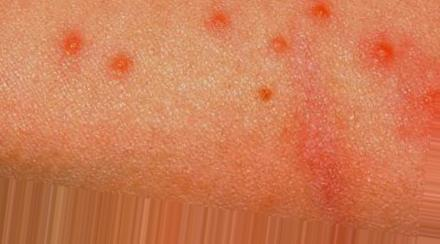Fleas: (362, 33, 405, 75), (102, 47, 136, 81), (203, 6, 233, 35), (58, 30, 84, 56), (421, 88, 439, 118), (255, 84, 276, 107), (268, 33, 290, 54)
